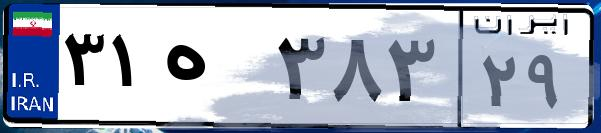1: (110, 28, 158, 98)
2: (475, 38, 525, 113)
3: (270, 28, 330, 110), (385, 28, 445, 110), (57, 26, 110, 100)
8: (330, 28, 385, 110)
9: (525, 38, 570, 115)
ه: (158, 20, 270, 120)
